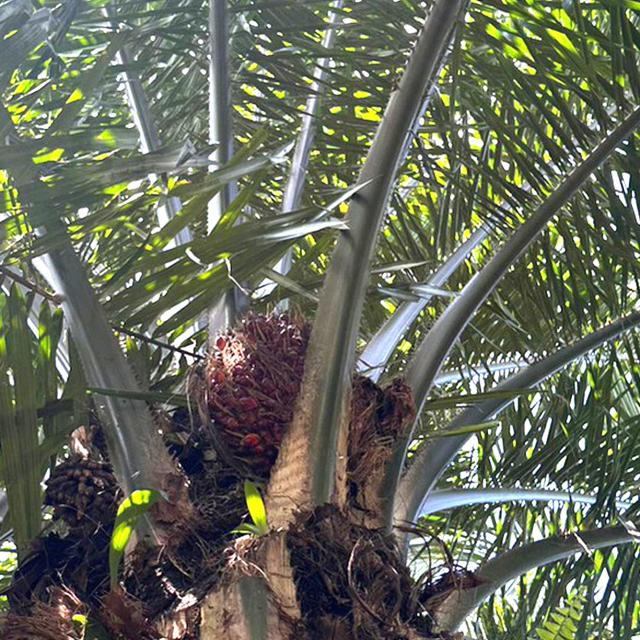ripe: (200, 302, 336, 462)
